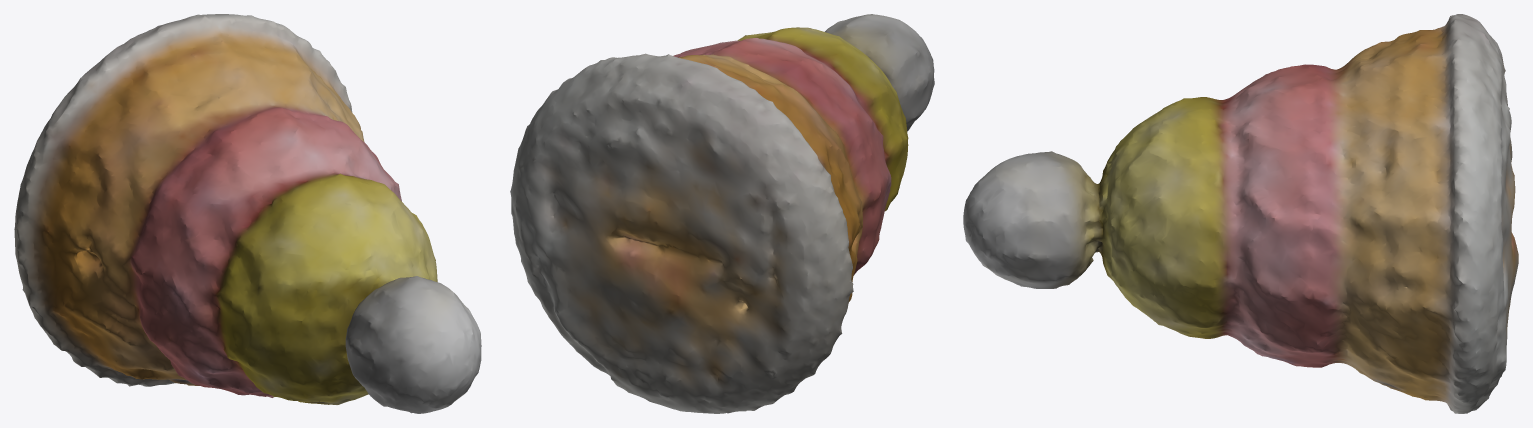
The model's file is chicken.glb.
3 views of the same model, side by side, from view 1: azimuth 30°, elevation 25°; view 2: azimuth 150°, elevation 25°; view 3: azimuth 270°, elevation 25° (orthographic). The views are drawn at different scales.
Bounding box in the file's own units: 0.7232 × 0.7194 × 0.9966.
